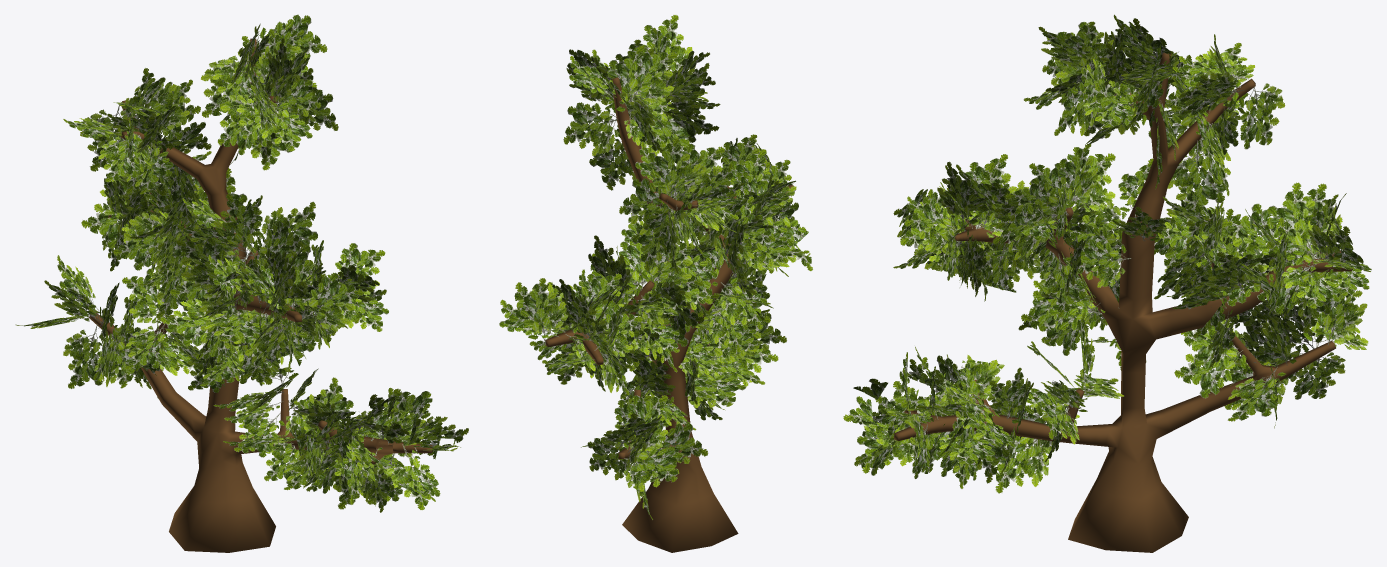
Rendered from OakLower.fbx.
3 views of the same model, side by side, from view 1: azimuth 30°, elevation 25°; view 2: azimuth 150°, elevation 25°; view 3: azimuth 270°, elevation 25° (orthographic). The views are drawn at different scales.
Visible parts, largest first — view 1: Leaves, Trunk; view 2: Leaves, Trunk; view 3: Leaves, Trunk.
Part boxes in pixels (box(x1,y1,x2,y2)): Leaves: box(15, 14, 468, 512); Trunk: box(89, 38, 433, 552); Leaves: box(499, 15, 812, 519); Trunk: box(545, 77, 795, 552); Leaves: box(843, 14, 1371, 493); Trunk: box(894, 52, 1352, 552).
Size of the model in its own units: 5.51 by 6.1 by 3.31.
Materials: 2 (1 with a texture image).
